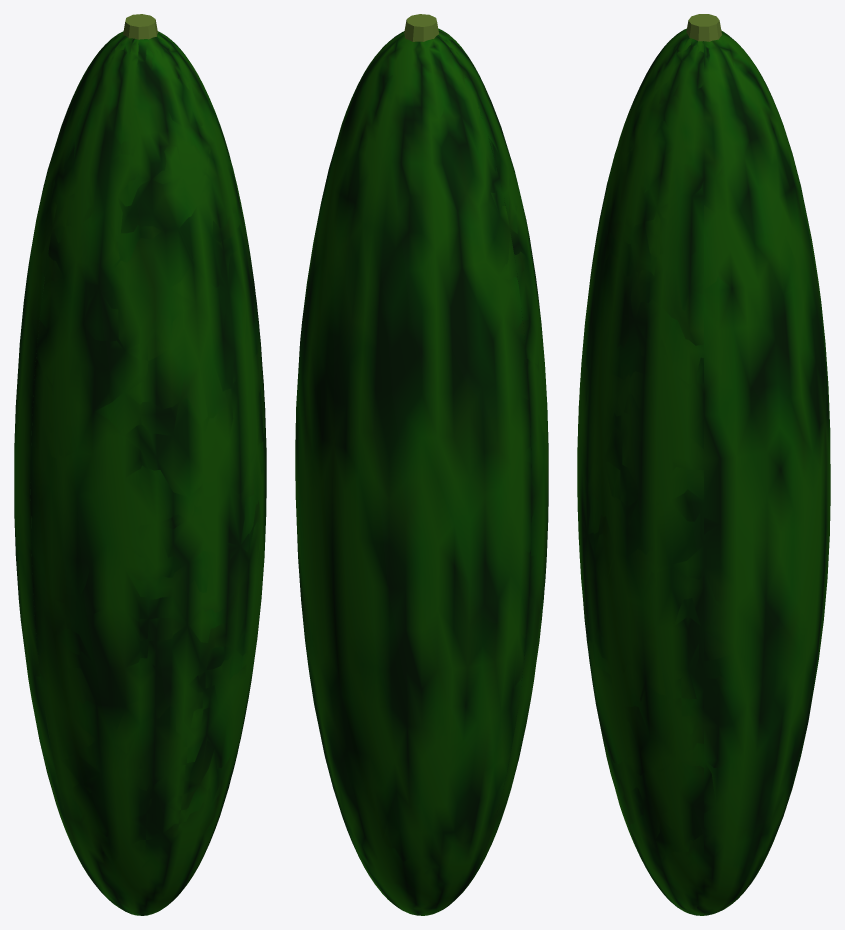
Rendered from concombre.glb.
3 renders of one model, left to right at view 1: azimuth 30°, elevation 25°; view 2: azimuth 150°, elevation 25°; view 3: azimuth 270°, elevation 25°, orthographic.
Visible parts, largest first — view 1: moitie_B_peau, entier_peau, moitie_A_peau, entier_extra0; view 2: moitie_A_peau, entier_peau, moitie_B_peau, entier_extra0; view 3: entier_peau, moitie_B_peau, moitie_A_peau, entier_extra0.
Part boxes in pixels (x1,y1,x2,y2): moitie_B_peau: (31,33,266,915); entier_peau: (14,31,266,915); moitie_A_peau: (14,31,125,887); entier_extra0: (123,14,157,39); moitie_A_peau: (295,32,531,915); entier_peau: (295,29,548,914); moitie_B_peau: (437,28,548,900); entier_extra0: (404,14,438,41); entier_peau: (577,28,830,915); moitie_B_peau: (577,29,703,915); moitie_A_peau: (704,30,830,915); entier_extra0: (686,14,721,41).
Size of the model in its own units: 0.5201 by 2.02 by 0.52.
